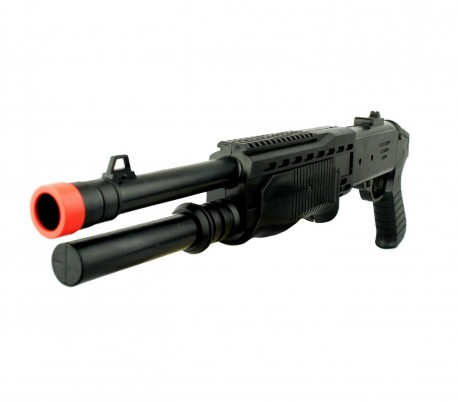Arma Falsa: (25, 111, 424, 273)
